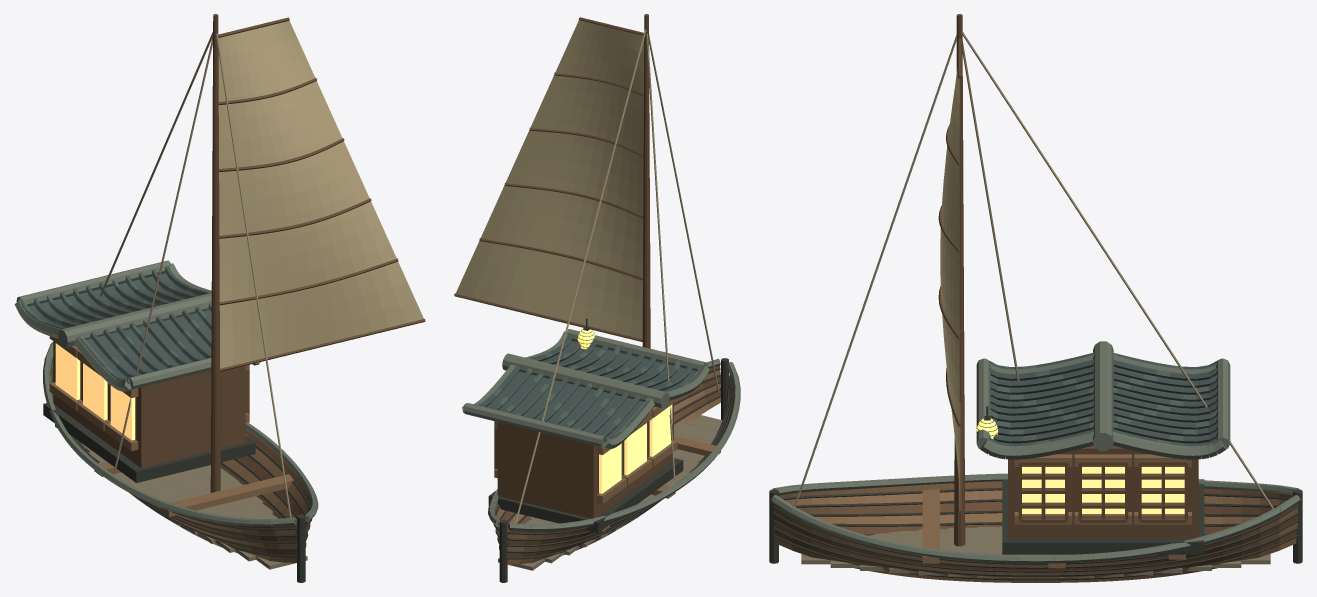
File: sailboat.glb
3 views of the same model, side by side, from view 1: azimuth 30°, elevation 25°; view 2: azimuth 150°, elevation 25°; view 3: azimuth 270°, elevation 25° (orthographic). The views are drawn at different scales.
Parts seen in each view (by area): view 1: Sailboat_cloth, Sailboat_wood, Sailboat_rim, Sailboat_roof, Sailboat_dark, Sailboat_cedar, Sailboat_plank, Sailboat_paper, Sailboat_rope, Sailboat_roof2; view 2: Sailboat_cloth, Sailboat_wood, Sailboat_roof, Sailboat_rim, Sailboat_dark, Sailboat_cedar, Sailboat_rope, Sailboat_paper, Sailboat_plank, Sailboat_roof2; view 3: Sailboat_wood, Sailboat_rim, Sailboat_dark, Sailboat_cedar, Sailboat_roof, Sailboat_cloth, Sailboat_rope, Sailboat_plank, Sailboat_paper, Sailboat_roof2.
Part boxes in pixels (bbox=[...]): Sailboat_cloth: bbox=[218, 20, 423, 368]; Sailboat_wood: bbox=[53, 14, 425, 554]; Sailboat_rim: bbox=[14, 260, 318, 526]; Sailboat_roof: bbox=[17, 266, 211, 383]; Sailboat_dark: bbox=[43, 357, 312, 582]; Sailboat_cedar: bbox=[49, 336, 309, 562]; Sailboat_plank: bbox=[81, 443, 307, 569]; Sailboat_paper: bbox=[55, 343, 135, 440]; Sailboat_rope: bbox=[99, 32, 291, 517]; Sailboat_roof2: bbox=[36, 279, 211, 373]; Sailboat_cloth: bbox=[455, 20, 644, 339]; Sailboat_wood: bbox=[454, 14, 730, 557]; Sailboat_roof: bbox=[478, 334, 707, 441]; Sailboat_rim: bbox=[462, 329, 740, 531]; Sailboat_dark: bbox=[488, 326, 733, 582]; Sailboat_cedar: bbox=[494, 329, 733, 564]; Sailboat_rope: bbox=[515, 29, 719, 523]; Sailboat_paper: bbox=[599, 404, 672, 493]; Sailboat_plank: bbox=[498, 415, 722, 570]; Sailboat_roof2: bbox=[492, 345, 689, 432]; Sailboat_wood: bbox=[774, 14, 1297, 578]; Sailboat_rim: bbox=[771, 341, 1300, 563]; Sailboat_dark: bbox=[769, 416, 1302, 580]; Sailboat_cedar: bbox=[774, 418, 1297, 582]; Sailboat_roof: bbox=[985, 354, 1221, 446]; Sailboat_cloth: bbox=[940, 68, 959, 498]; Sailboat_rope: bbox=[794, 31, 1273, 509]; Sailboat_plank: bbox=[801, 527, 1270, 577]; Sailboat_paper: bbox=[1022, 467, 1184, 513]; Sailboat_roof2: bbox=[989, 352, 1217, 443].
Bounding box in the file's own units: 4.95 × 8.1 × 7.13.
